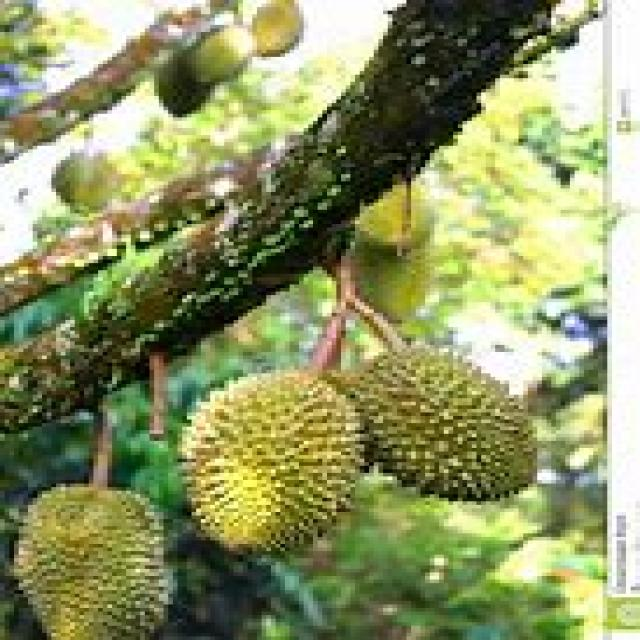mature: (182, 370, 363, 551), (355, 348, 535, 499), (13, 485, 169, 639)
